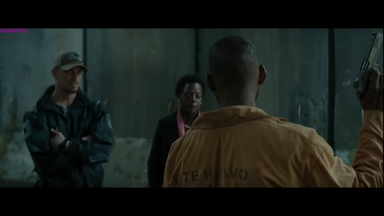firearm: (350, 30, 382, 106)
